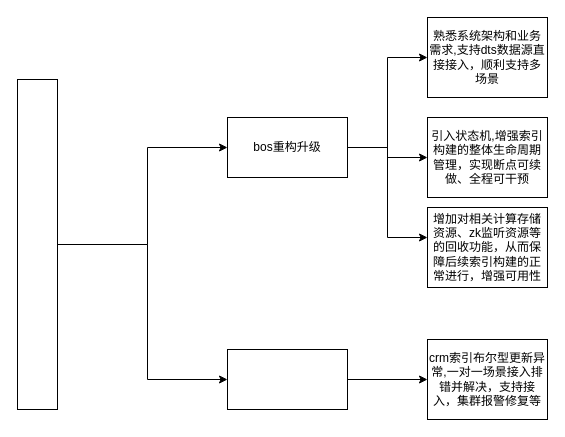
This 565x437 diagram has some shape labels left out. Each missing label, with the centre of its shape:
日常维护升级和协助接入: the point at 287,379
统一检索平台: the point at 37,244
